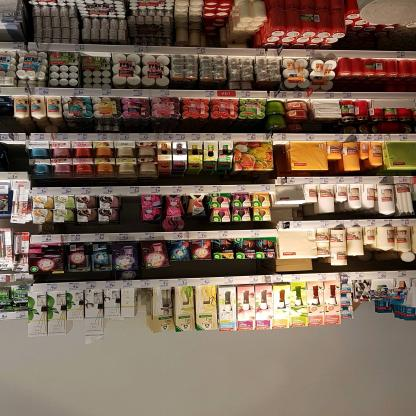empty_space: (115, 196, 142, 236), (4, 140, 27, 172), (135, 289, 152, 332), (276, 140, 290, 178)
